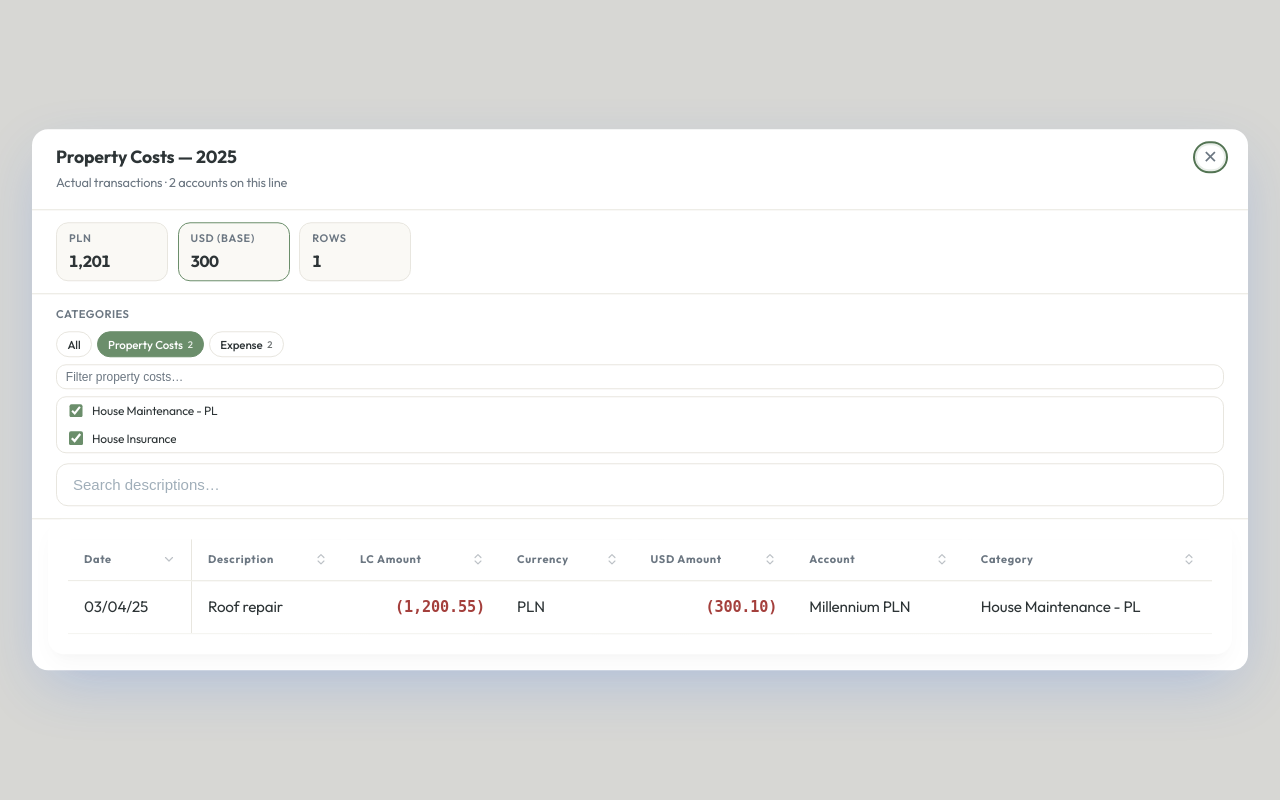
CR072 QA — the FC line drill-down › the All pill drops the category restriction entirely
expect the text "Roof repair" is shown: met, box [192,581,344,634]
Click the button with class "hf__pill" showing "All" at (74, 344), box [56,331,92,358]
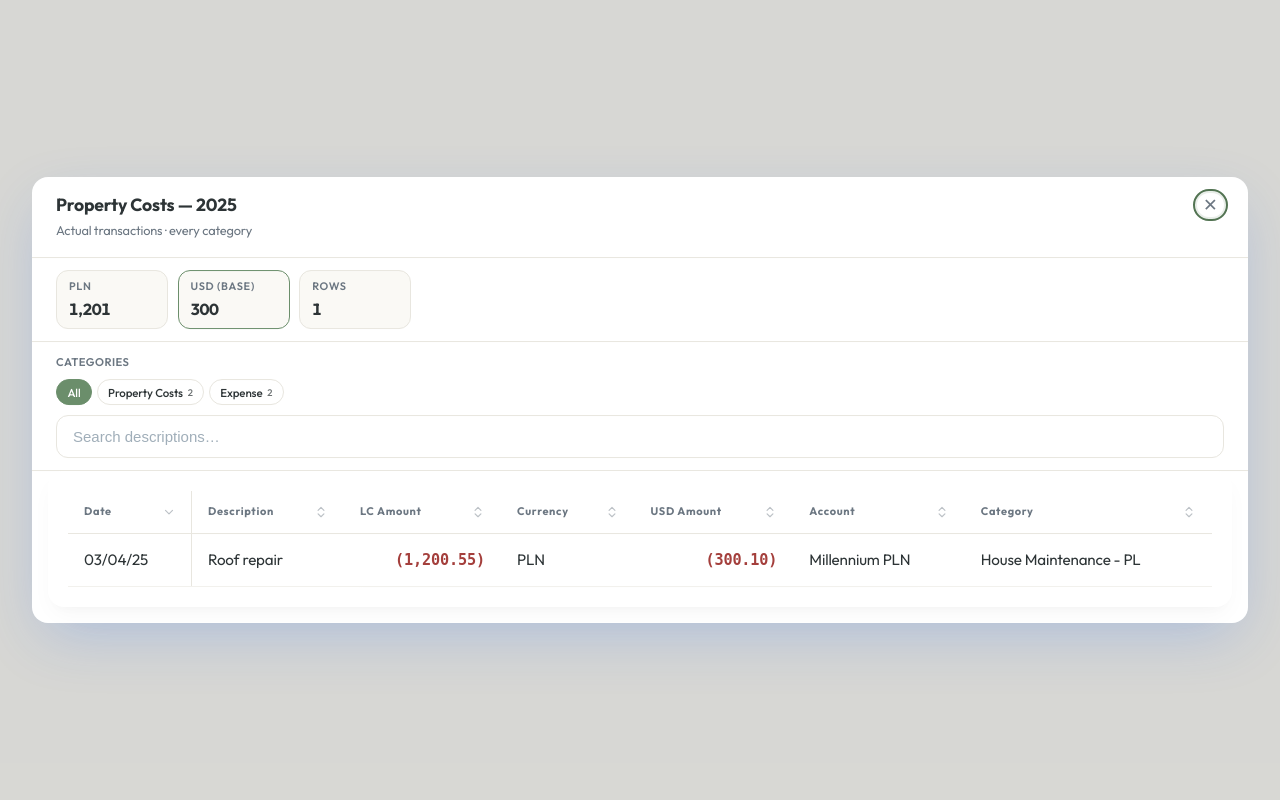
expect the text "Actual transactions · every category" is shown: met, box [56,220,252,241]
